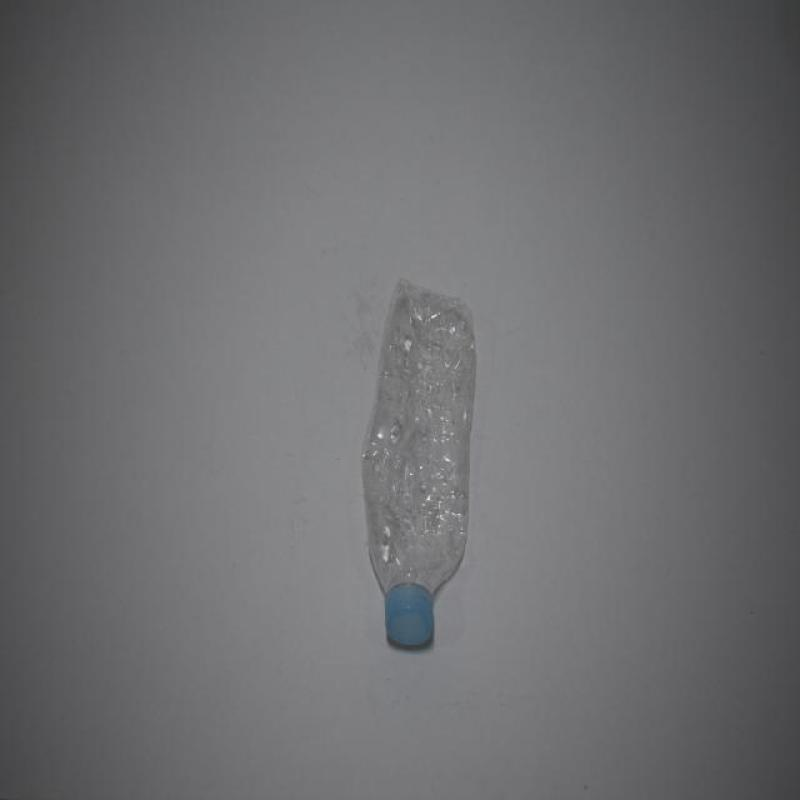botella: (363, 278, 477, 646)
